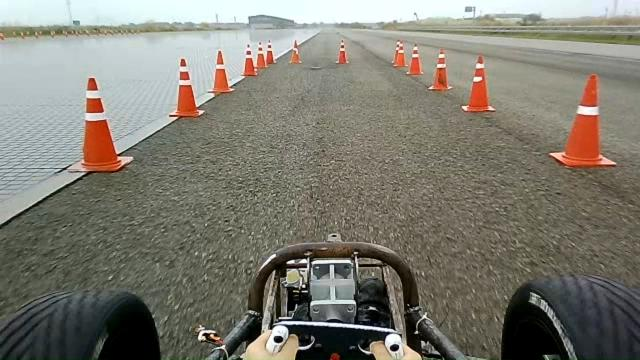red cone: (548, 72, 616, 168), (68, 76, 134, 173), (169, 57, 205, 118), (461, 55, 496, 112), (207, 50, 235, 93), (427, 48, 453, 90), (406, 42, 424, 75), (240, 43, 258, 76), (392, 38, 408, 66), (335, 38, 349, 64), (289, 39, 302, 64), (256, 41, 268, 68), (266, 39, 276, 64)
